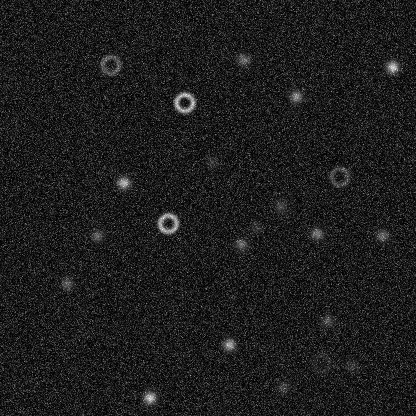Ring: (327, 164, 351, 188), (172, 90, 196, 114), (155, 211, 179, 235), (98, 52, 122, 76), (309, 351, 333, 375)
Spot: (343, 357, 359, 373), (89, 227, 105, 243), (58, 275, 74, 291), (203, 154, 219, 170), (248, 219, 264, 235), (308, 225, 324, 241), (274, 379, 290, 395), (288, 88, 304, 104), (319, 312, 335, 328), (384, 58, 400, 74), (233, 236, 249, 252), (374, 227, 390, 243), (272, 198, 288, 214), (221, 336, 237, 352), (235, 51, 251, 67), (115, 174, 131, 190), (141, 389, 157, 405)
